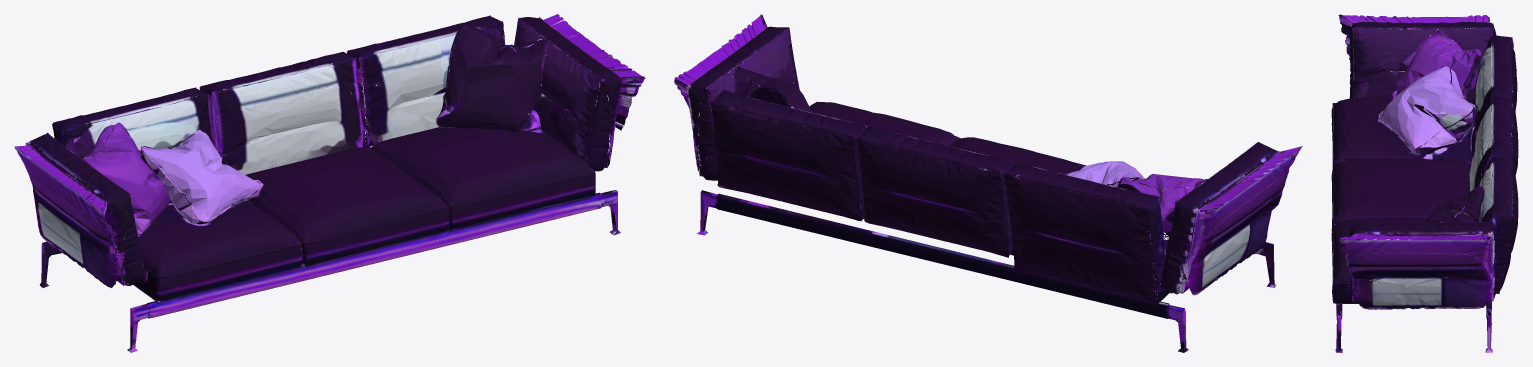
Rendered from edited_mesh.glb.
3 views of the same model, side by side, from view 1: azimuth 30°, elevation 25°; view 2: azimuth 150°, elevation 25°; view 3: azimuth 270°, elevation 25° (orthographic). The views are drawn at different scales.
Parts seen in each view (by area): view 1: solid_001_wire; view 2: solid_001_wire; view 3: solid_001_wire.
Part boxes in pixels (x1,y1,x2,y2): solid_001_wire: [14, 14, 645, 352]; solid_001_wire: [674, 14, 1302, 352]; solid_001_wire: [1331, 14, 1518, 352].
Bounding box in the file's own units: 2 × 0.577 × 0.7051.
Materials: 1 (1 with a texture image).
